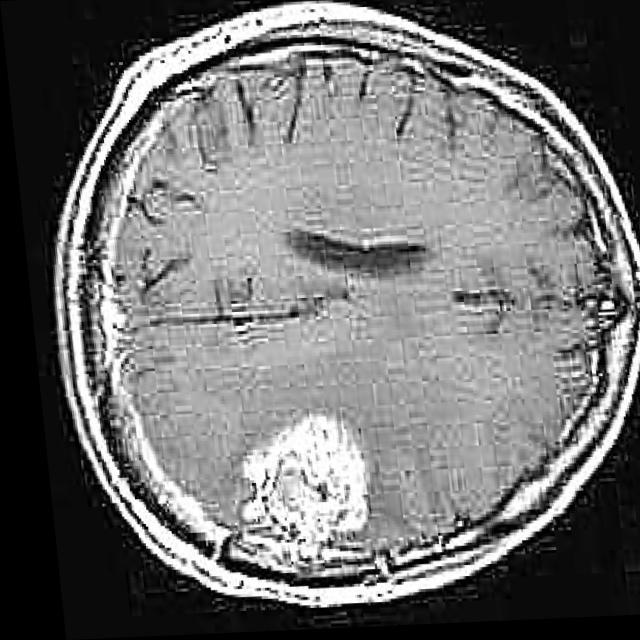Tumor: (225, 421, 353, 563)
